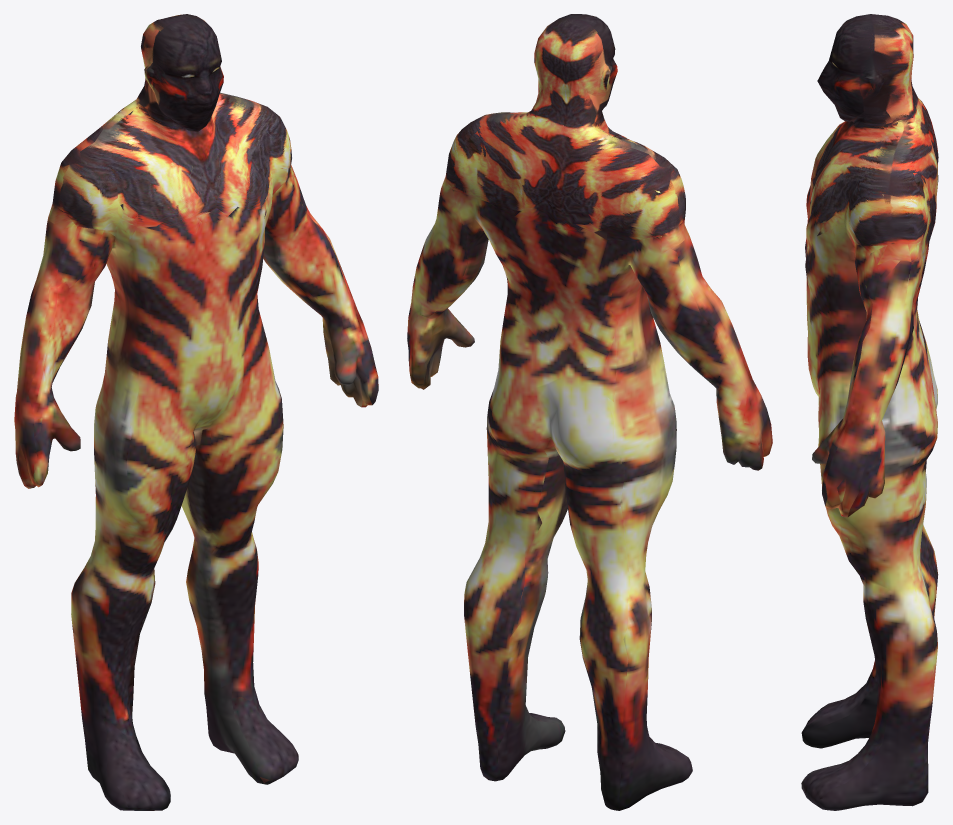
File: fire-behemoth-overview-v1.glb
3 renders of one model, left to right at view 1: azimuth 30°, elevation 25°; view 2: azimuth 150°, elevation 25°; view 3: azimuth 270°, elevation 25°, orthographic.
Parts seen in each view (by area): view 1: fire-behemoth; view 2: fire-behemoth; view 3: fire-behemoth.
Boxes of the visible parts, x1=… form: fire-behemoth: x1=14, y1=14, x2=378, y2=810; fire-behemoth: x1=407, y1=14, x2=772, y2=810; fire-behemoth: x1=801, y1=14, x2=938, y2=810.
Bounding box in the file's own units: 0.9622 × 1.99 × 0.3287.
1 material, 1 textured.
